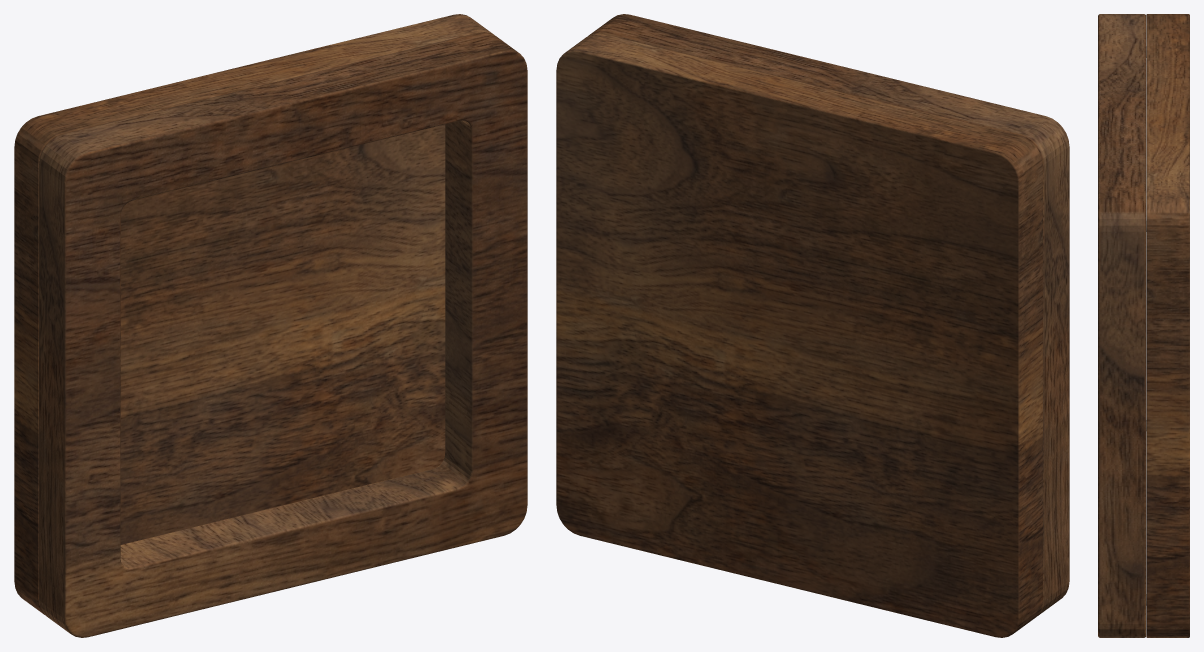
The model's file is Walnut.gltf.
The picture shows the model from 3 angles, left to right: view 1: azimuth 30°, elevation 25°; view 2: azimuth 150°, elevation 25°; view 3: azimuth 270°, elevation 25°; orthographic projection. The views are drawn at different scales.
Parts seen in each view (by area): view 1: Cube.001; view 2: Cube.001; view 3: Cube.001.
Part boxes in pixels (x1=…): Cube.001: x1=14, y1=14, x2=527, y2=637; Cube.001: x1=556, y1=14, x2=1069, y2=637; Cube.001: x1=1098, y1=14, x2=1189, y2=637.
Bounding box in the file's own units: 3.55 × 3.55 × 0.6764.
1 material, 1 textured.
